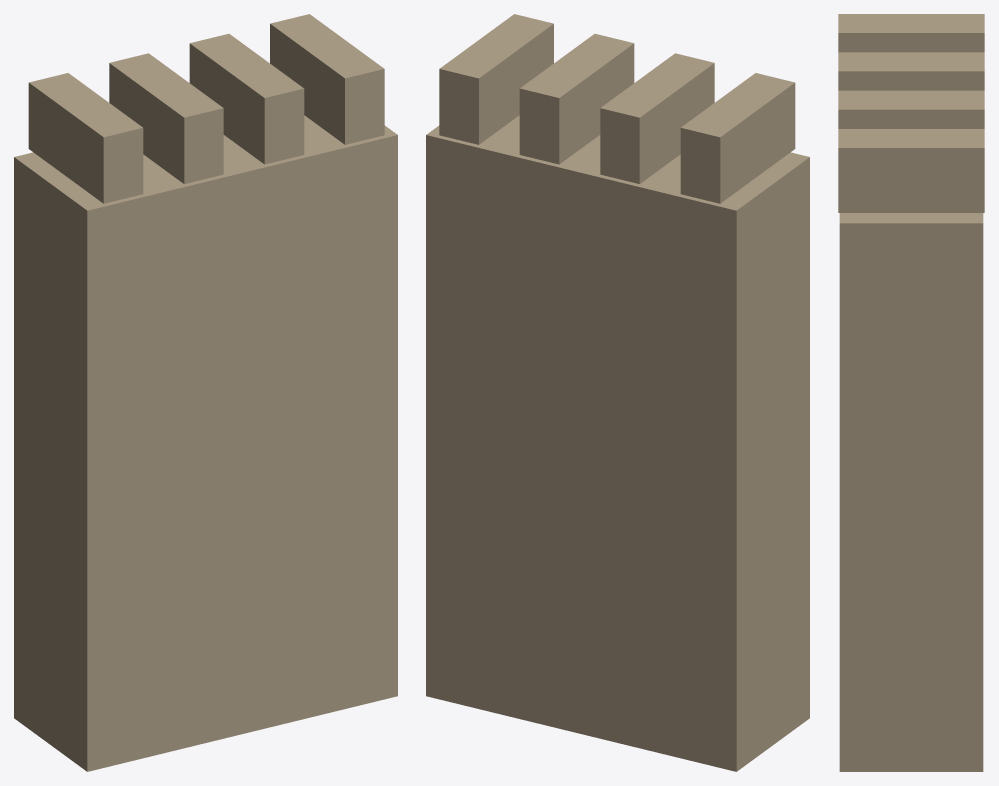
The model's file is b-wall-castilian.glb.
The picture shows the model from 3 angles, left to right: view 1: azimuth 30°, elevation 25°; view 2: azimuth 150°, elevation 25°; view 3: azimuth 270°, elevation 25°; orthographic projection. The views are drawn at different scales.
Parts seen in each view (by area): view 1: Structure; view 2: Structure; view 3: Structure.
Part boxes in pixels (bbox=[...]): Structure: bbox=[14, 14, 397, 771]; Structure: bbox=[426, 14, 809, 771]; Structure: bbox=[838, 14, 984, 771].
Size of the model in its own units: 2.2 by 4.28 by 0.92.
